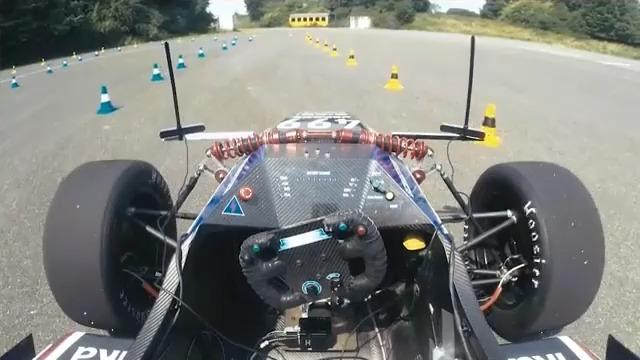blue_cone: (97, 85, 119, 114), (150, 62, 165, 82), (176, 54, 187, 69)
yellow_cone: (471, 102, 503, 147), (381, 64, 407, 91), (345, 49, 359, 66)
